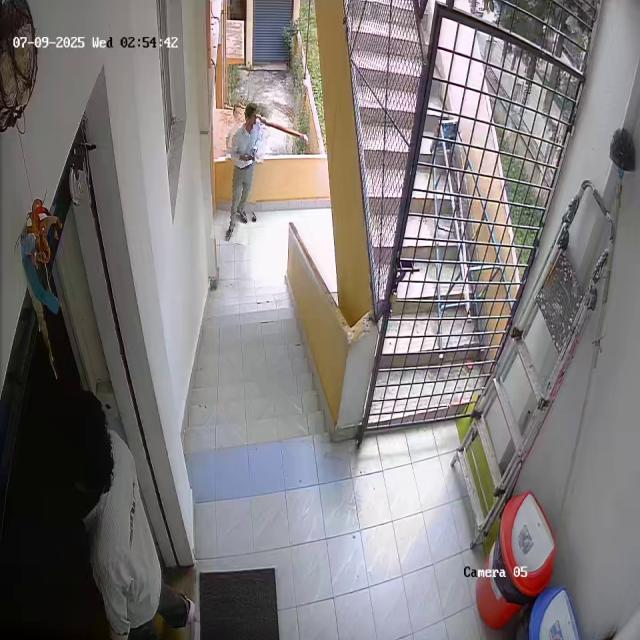person: (216, 100, 268, 244)
